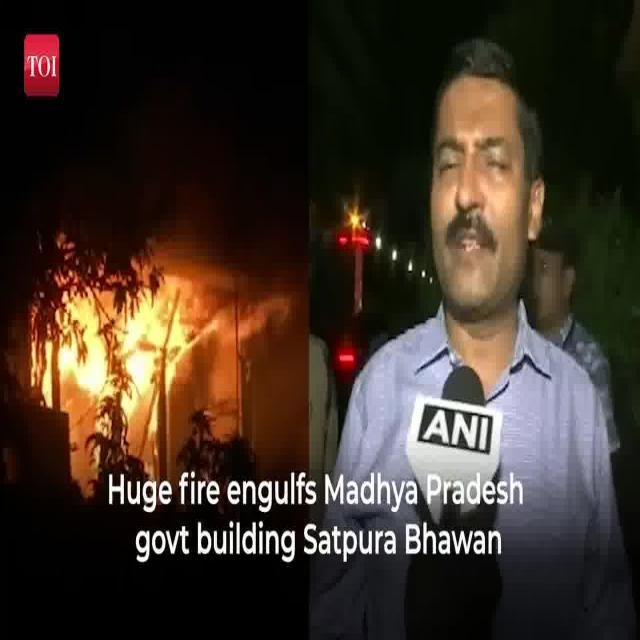Fire: (34, 255, 227, 443)
